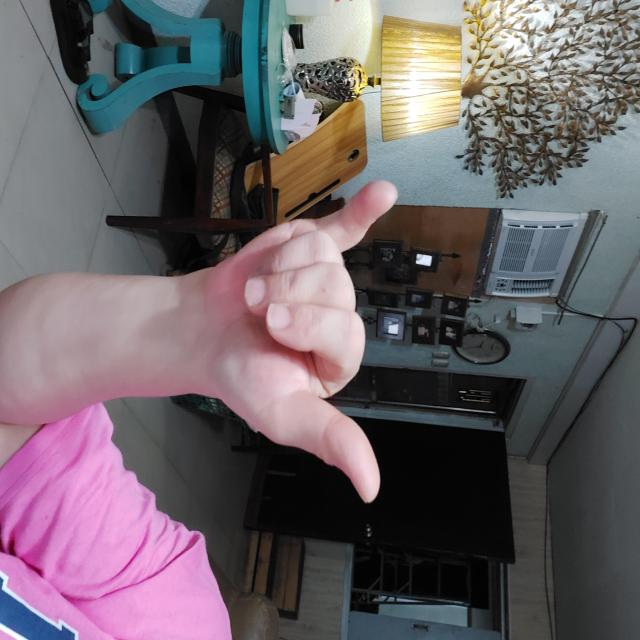Y: (180, 242, 503, 436)
